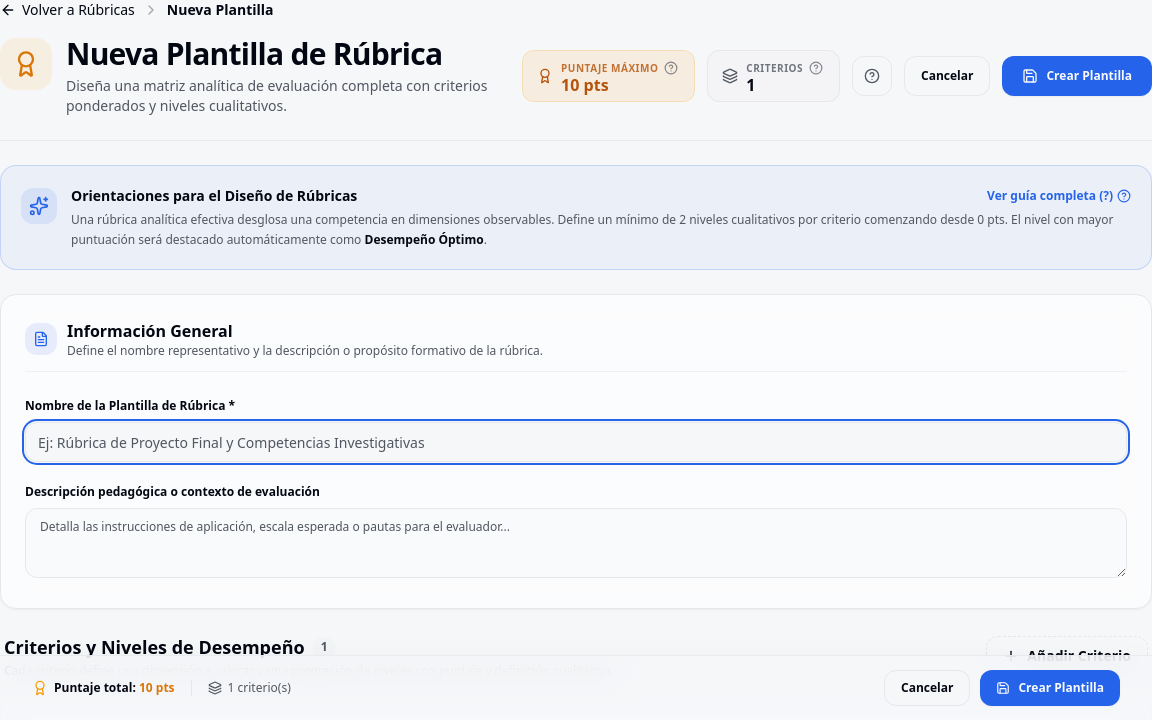
Test: RubricEditorView Component › validates required rubric name before saving
This screenshot has width=1152, height=720.
Click the button "Crear Plantilla" in the row of "Puntaje Máximo" at {"x": 1077, "y": 76}, box [1002,56,1151,96]
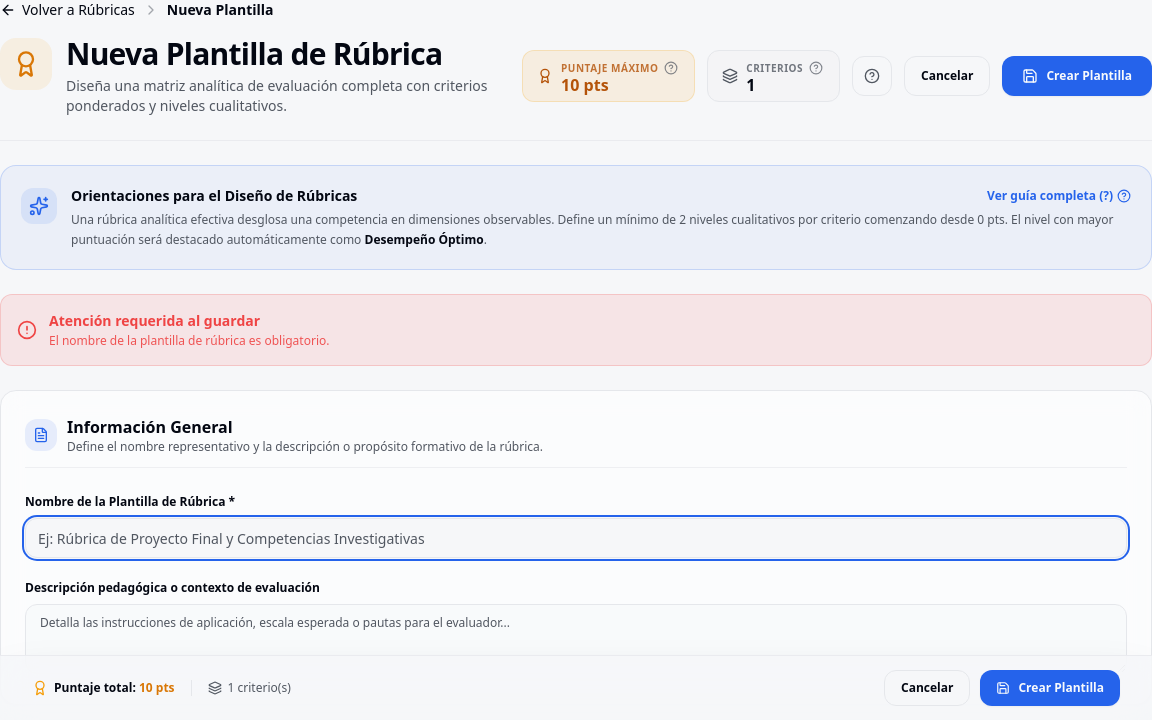
Expected: the text "El nombre de la plantilla de rúbrica es obligatorio." is shown, [49,332,330,349]
